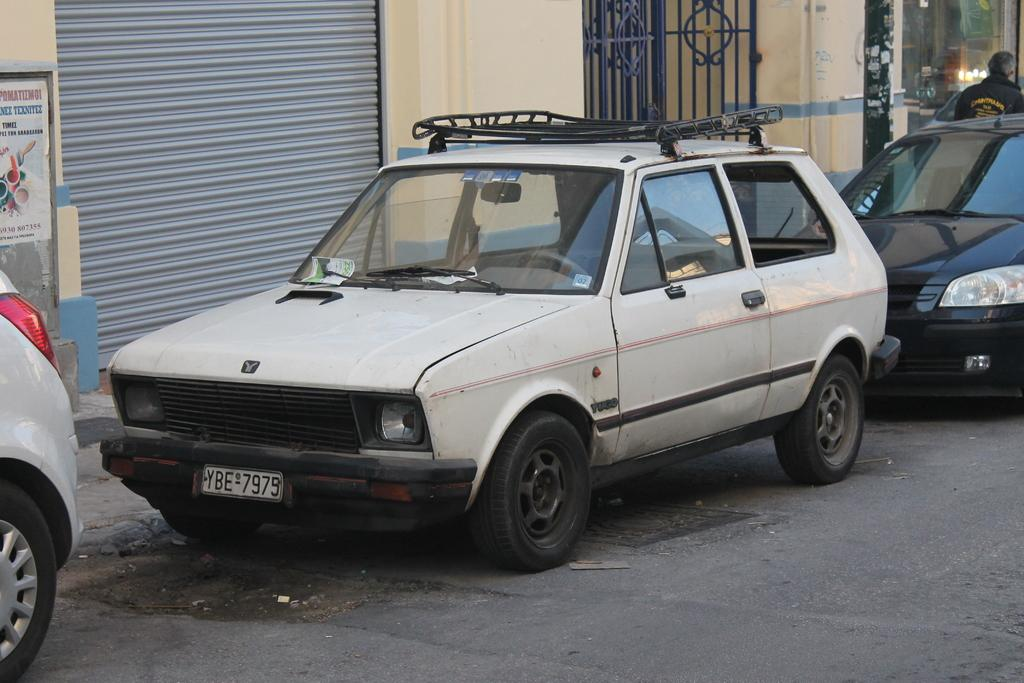Car: (99, 106, 900, 575), (783, 111, 1023, 402), (0, 264, 83, 682)
